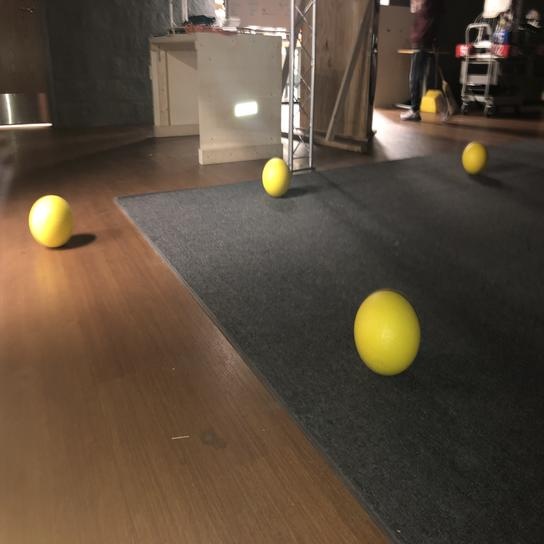ball: (349, 286, 422, 384), (22, 191, 78, 251), (259, 157, 293, 199), (456, 139, 487, 176)
